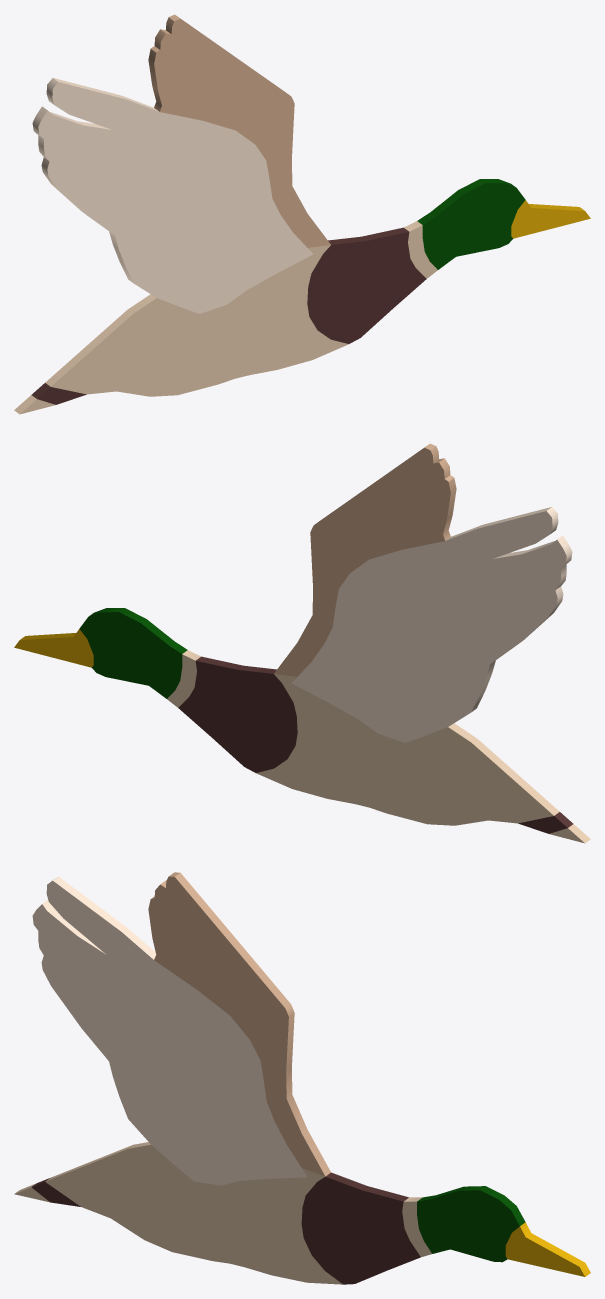
Rendered from F_ducc.fbx.
3 renders of one model, top to bottom at view 1: azimuth 30°, elevation 25°; view 2: azimuth 150°, elevation 25°; view 3: azimuth 330°, elevation 25°, orthographic.
Visible parts, largest first — view 1: F_shootablekaczka; view 2: F_shootablekaczka; view 3: F_shootablekaczka.
Part boxes in pixels (bbox=[...]): F_shootablekaczka: bbox=[14, 14, 590, 414]; F_shootablekaczka: bbox=[14, 443, 590, 843]; F_shootablekaczka: bbox=[14, 872, 590, 1284].
Size of the model in its own units: 172 by 108 by 3.
